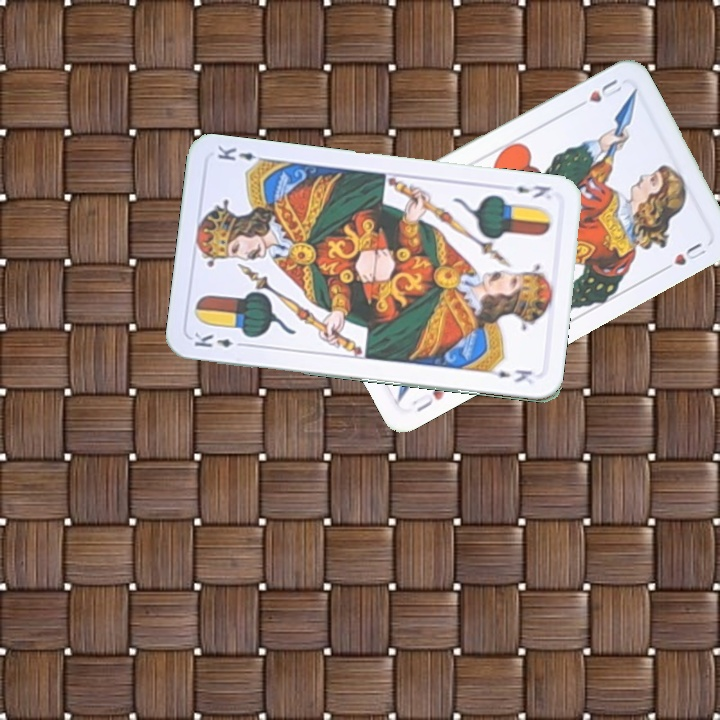EK: (190, 329, 249, 350), (512, 181, 553, 201)
HU: (570, 75, 625, 112), (408, 385, 448, 415)
